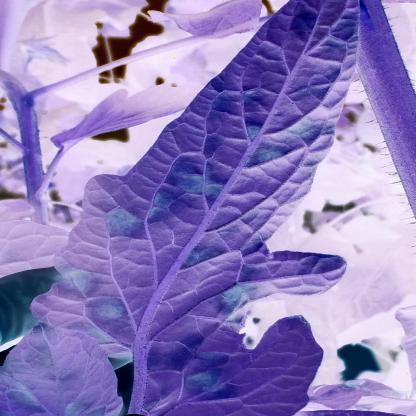Tomato mold leaf: (21, 2, 364, 416)
